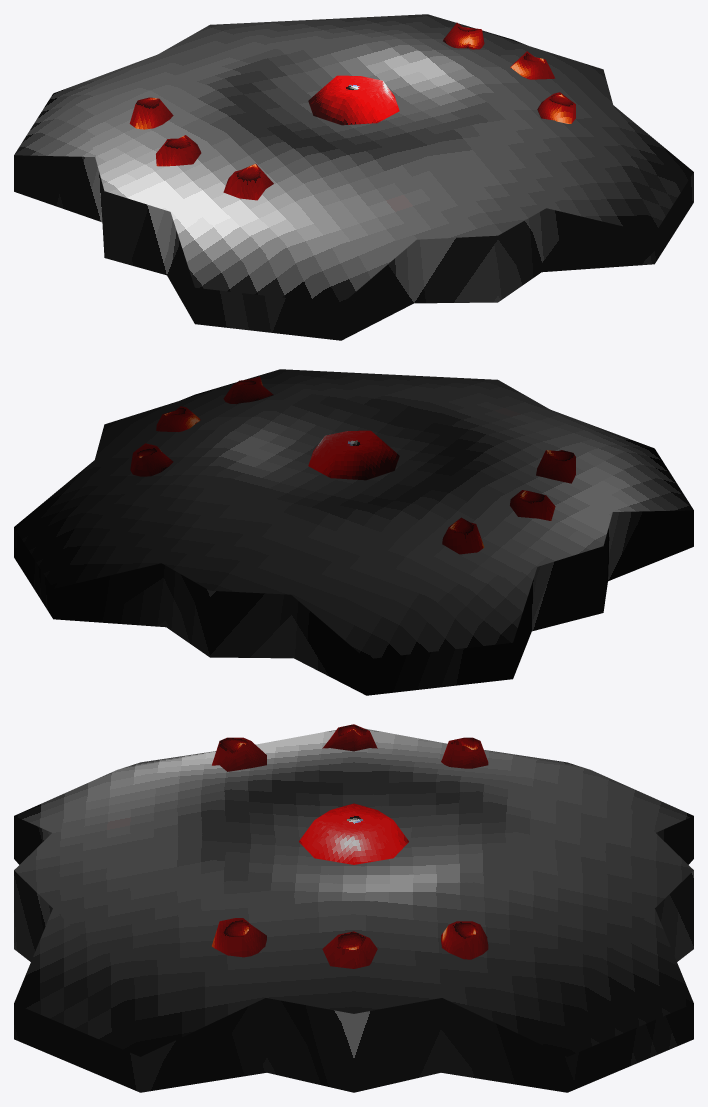
Rendered from GremotemineZ.obj.
The picture shows the model from 3 angles, top to bottom: view 1: azimuth 30°, elevation 25°; view 2: azimuth 150°, elevation 25°; view 3: azimuth 270°, elevation 25°; orthographic projection. The views are drawn at different scales.
Bounding box in the file's own units: 86 × 18 × 86.
Materials: 3 (3 with a texture image).
